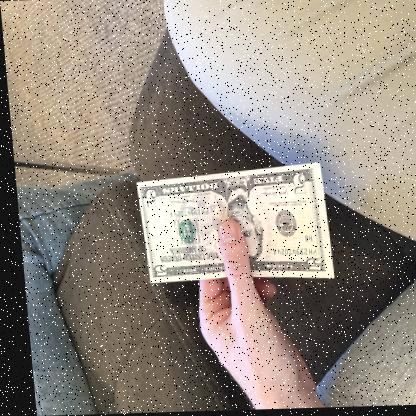five-front: (131, 162, 329, 284)
